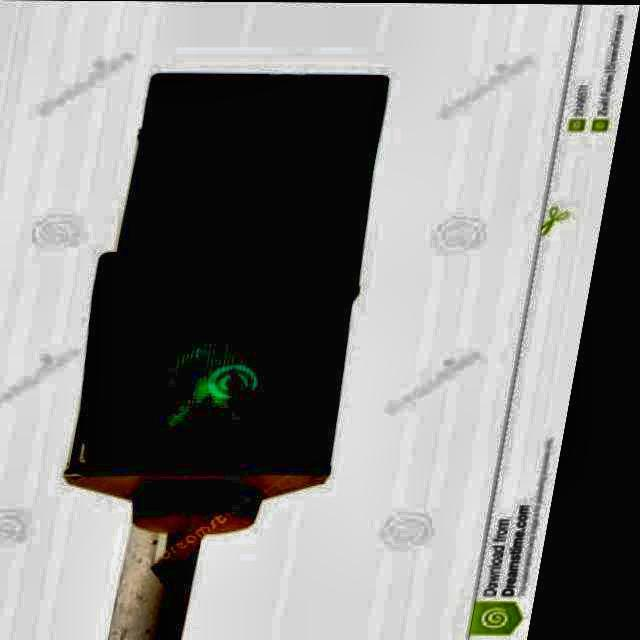semaforo pedestre: (14, 56, 459, 576)
